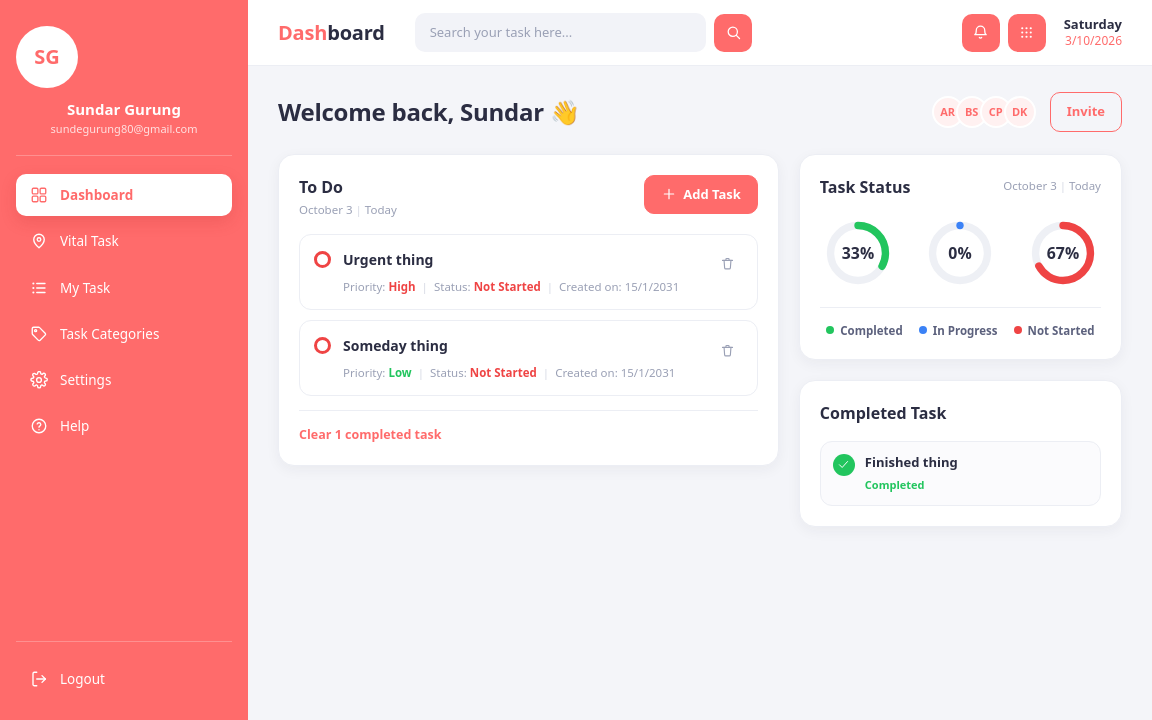
Test case: sidebar navigation › narrows to high-priority open work in Vital Task
This screenshot has width=1152, height=720.
Check: the heading "Urgent thing" is shown, box [343, 250, 434, 269]
Step 1. Click the button "Vital Task" → (124, 241), box [16, 220, 232, 263]
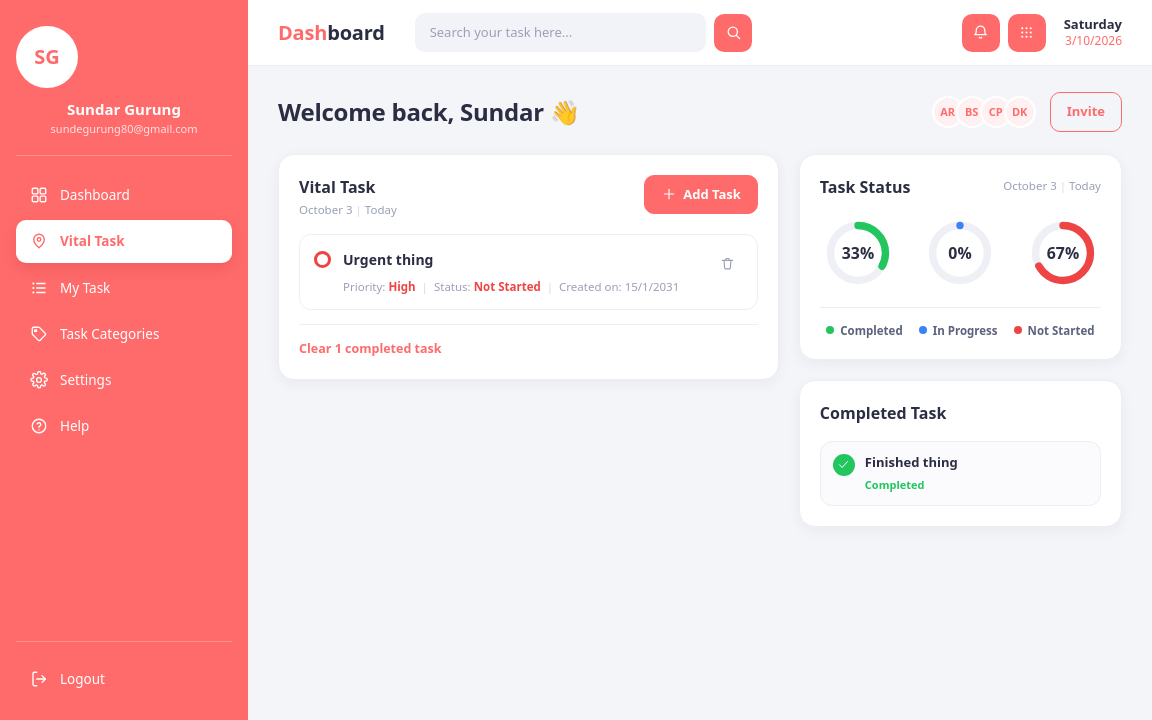
Check: the element that starts with "Vital Task" shows "Urgent thing", box [343, 250, 434, 269]
Check: the heading "Someday thing" no longer shows "Someday thing"
